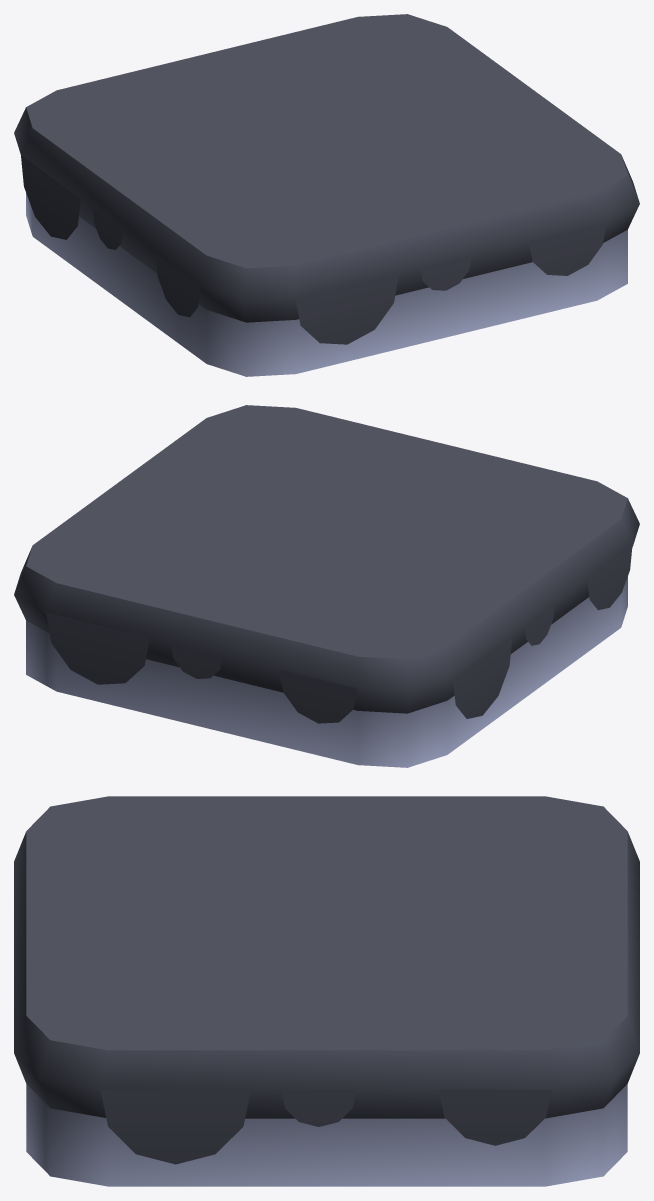
Rendered from block-snow-overhang-low-large.glb.
The picture shows the model from 3 angles, top to bottom: view 1: azimuth 30°, elevation 25°; view 2: azimuth 150°, elevation 25°; view 3: azimuth 270°, elevation 25°; orthographic projection. The views are drawn at different scales.
Visible parts, largest first — view 1: block-snow-overhang-low-large; view 2: block-snow-overhang-low-large; view 3: block-snow-overhang-low-large.
Boxes of the visible parts, x1,y1,x2,y2 form: block-snow-overhang-low-large: (14, 14, 639, 376); block-snow-overhang-low-large: (14, 405, 639, 767); block-snow-overhang-low-large: (14, 796, 639, 1186).
Bounding box in the file's own units: 2.08 × 0.5 × 2.08.
